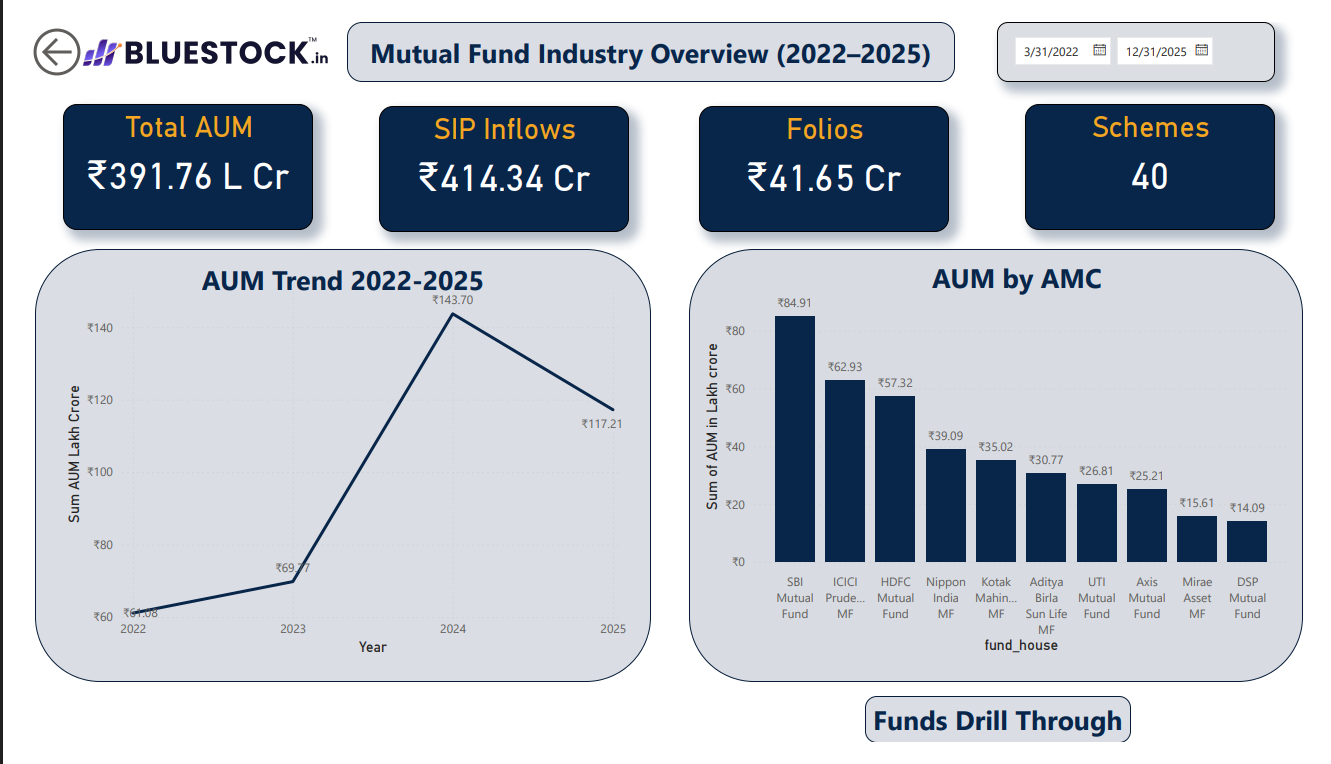

What the dashboard file says about the page in this screenshot:
{"tool":"powerbi","page":{"name":"Page 1 Industry Overview","canvas":[1280,720],"ordinal":0},"visuals":[{"type":"shape","box":[8.1,226.8,615.7,433.4],"z":0},{"type":"shape","box":[662.3,226.8,613.7,433.4],"z":1000},{"type":"card","title":"Total AUM","fields":{"Values":["01_fund_master.Total_AUM_Display"]},"box":[36,82,250,126],"z":2000},{"type":"card","title":"SIP Inflows","fields":{"Values":["01_fund_master.SIP_Inflows_Display"]},"box":[352,84,250,126],"z":3000},{"type":"card","title":"Folios","fields":{"Values":["01_fund_master.foliio_total"]},"box":[672,84,250,126],"z":4000},{"type":"card","title":"Schemes","fields":{"Values":["01_fund_master.Distinct_schemes"]},"box":[998,82,250,126],"z":5000},{"type":"lineChart","fields":{"Category":["03_aum_by_fund_house.date.Variation.Date Hierarchy.Year","03_aum_by_fund_house.date.Variation.Date Hierarchy.Quarter","03_aum_by_fund_house.date.Variation.Date Hierarchy.Month","03_aum_by_fund_house.date.Variation.Date Hierarchy.Day"],"Y":["Sum(03_aum_by_fund_house.aum_lakh_crore)"]},"box":[34.4,255.2,569.1,382.8],"z":6000},{"type":"columnChart","fields":{"Y":["Sum(03_aum_by_fund_house.aum_lakh_crore)"],"Category":["01_fund_master.fund_house"]},"box":[672.4,255.2,593.4,380.8],"z":7000},{"type":"shape","box":[162,226.8,307.8,60.8],"z":8000},{"type":"shape","box":[836.5,224.8,307.8,60.8],"z":9000},{"type":"shape","box":[320,0,607.5,60],"z":10000},{"type":"slicer","fields":{"Values":["03_aum_by_fund_house.date"]},"box":[970,0,278,60],"z":11000},{"type":"image","box":[50,0,257.5,60],"z":12000},{"type":"shape","box":[838.5,674.4,265.3,46.6],"z":12001},{"type":"actionButton","box":[0,0,80,60],"z":12002}]}

Visuals, with their boxes in screenshot pixels (x1, y1, x2, y2), scaled from the page's 1280x720 canvas onto the 1331x764 screenshot:
shape: l=8, t=241, r=649, b=701
shape: l=689, t=241, r=1327, b=701
"Total AUM" card: l=37, t=87, r=297, b=221
"SIP Inflows" card: l=366, t=89, r=626, b=223
"Folios" card: l=699, t=89, r=959, b=223
"Schemes" card: l=1038, t=87, r=1298, b=221
lineChart - 03_aum_by_fund_house.date.Variation.Date Hierarchy.Year x 03_aum_by_fund_house.date.Variation.Date Hierarchy.Quarter: l=36, t=271, r=628, b=677
columnChart - Sum(03_aum_by_fund_house.aum_lakh_crore) x 01_fund_master.fund_house: l=699, t=271, r=1316, b=675
shape: l=168, t=241, r=489, b=305
shape: l=870, t=239, r=1190, b=303
shape: l=333, t=0, r=964, b=64
slicer - 03_aum_by_fund_house.date: l=1009, t=0, r=1298, b=64
image: l=52, t=0, r=320, b=64
shape: l=872, t=716, r=1148, b=763
actionButton: l=0, t=0, r=83, b=64
